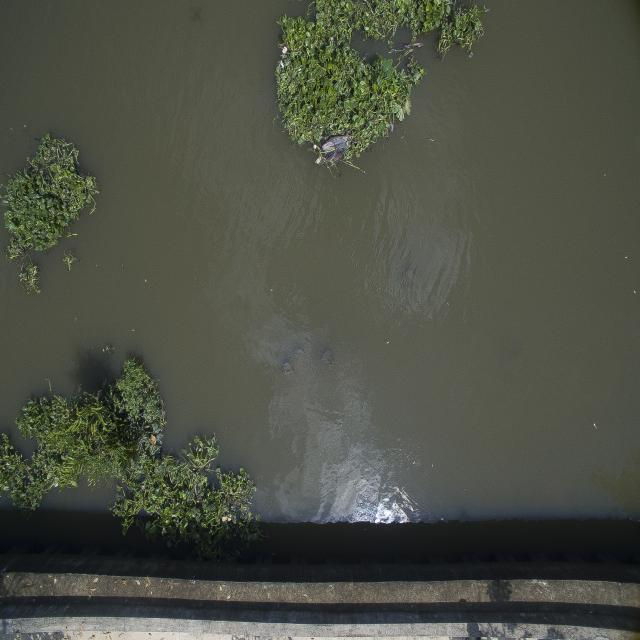plastic: (318, 130, 362, 167), (275, 34, 291, 71), (217, 508, 239, 531)
